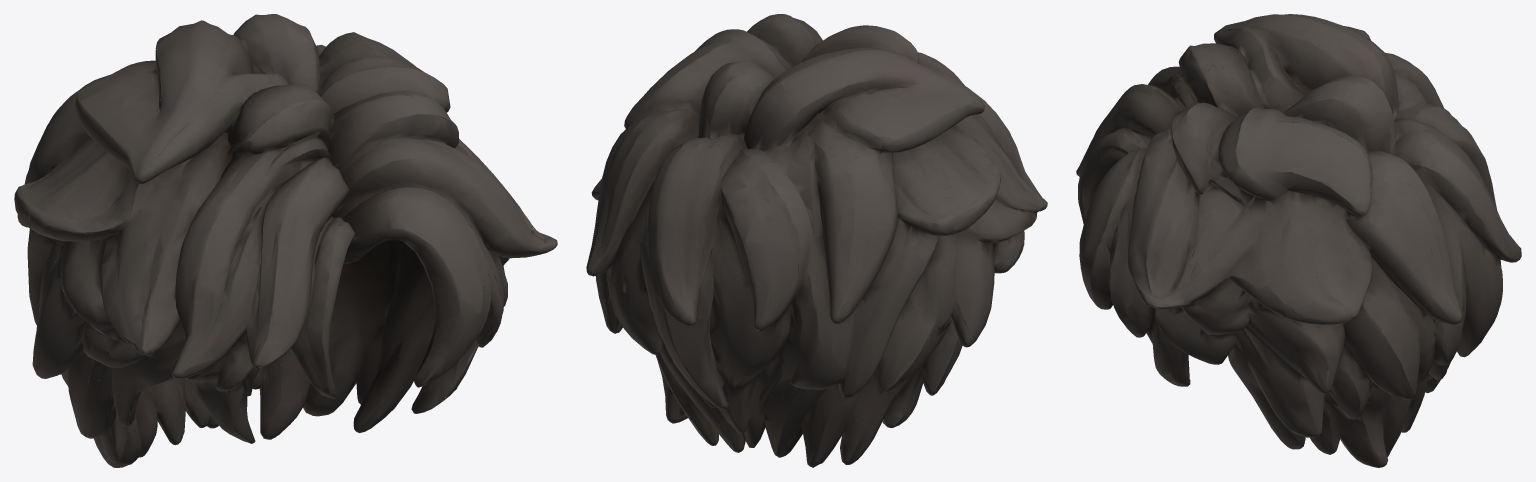
File: hair_h08.glb
3 views of the same model, side by side, from view 1: azimuth 30°, elevation 25°; view 2: azimuth 150°, elevation 25°; view 3: azimuth 270°, elevation 25° (orthographic). The views are drawn at different scales.
Visible parts, largest first — view 1: hair; view 2: hair; view 3: hair.
Boxes of the visible parts, x1,y1,x2,y2 form: hair: (14,14,557,467); hair: (586,14,1047,467); hair: (1076,14,1521,467).
Bounding box in the file's own units: 2.83 × 2.79 × 2.86.
1 material, 1 textured.
